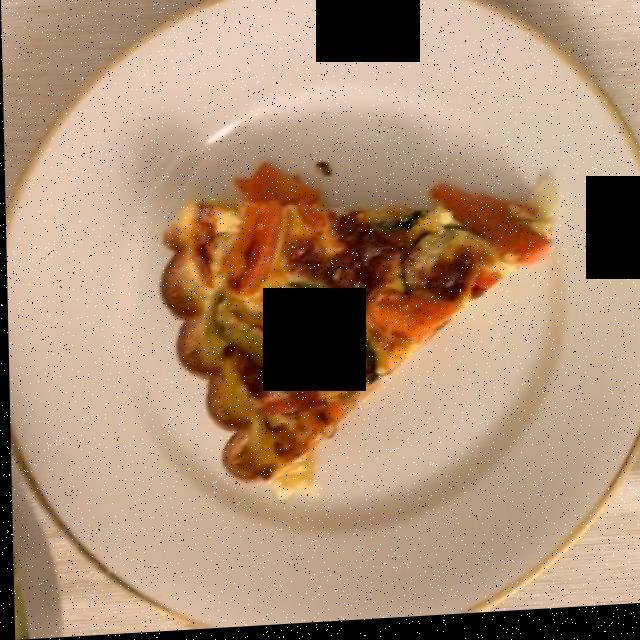vegetables: (215, 159, 535, 384)
